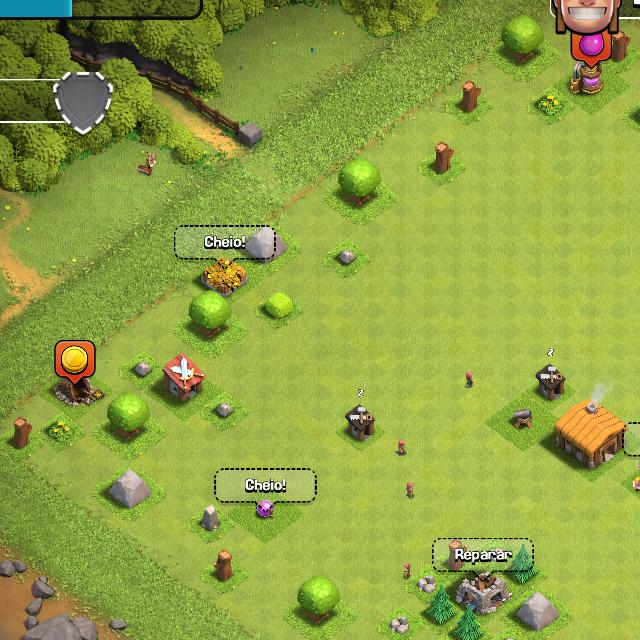Canhao: (509, 406, 535, 432)
FullCoin: (56, 339, 96, 387)
FullElixir: (571, 32, 612, 68)
